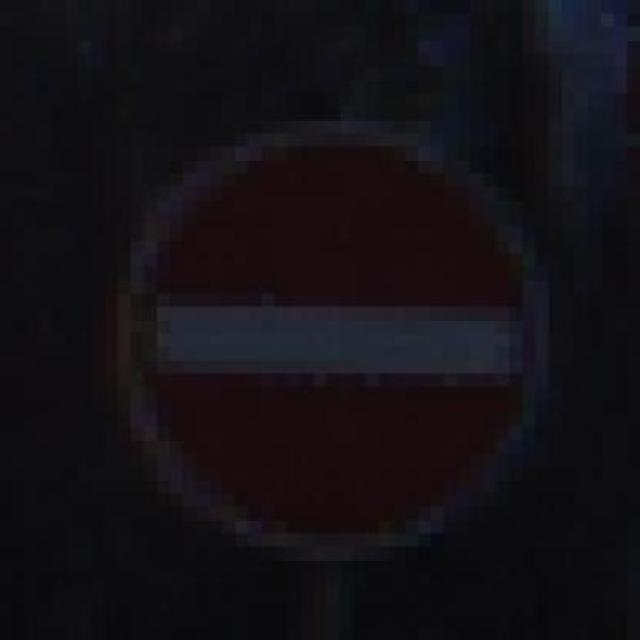No Entry: (52, 93, 588, 573)
